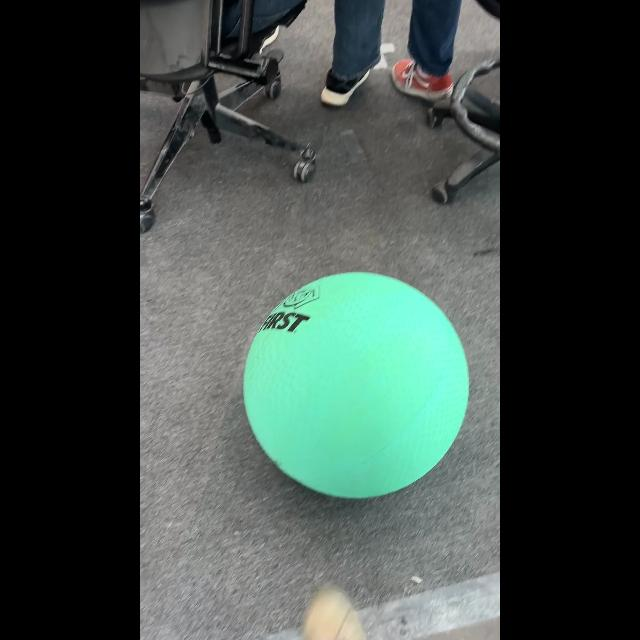ALGAE: (242, 270, 470, 500)
